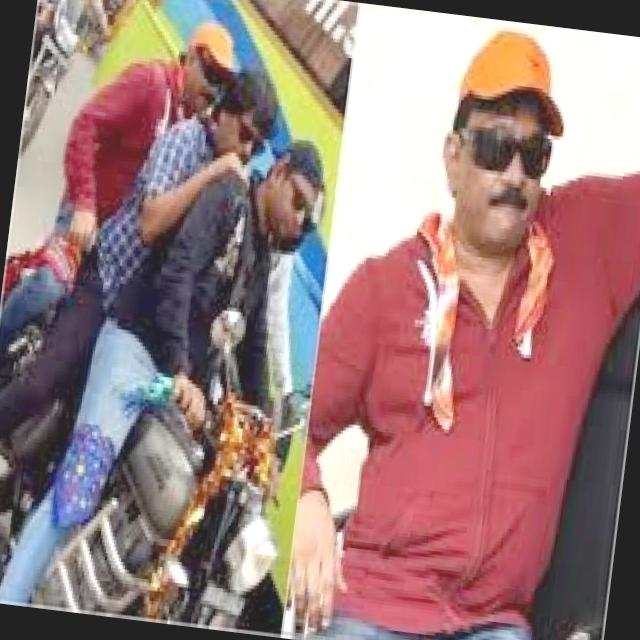motorcycle: (0, 255, 329, 638)
person: (64, 41, 290, 458), (24, 1, 239, 355), (160, 127, 343, 484)
rider_region: (0, 0, 359, 635)
